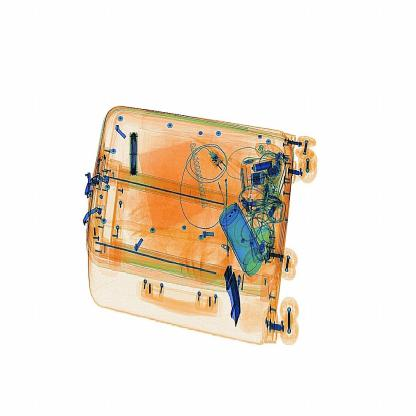scissors: (123, 125, 147, 178)
